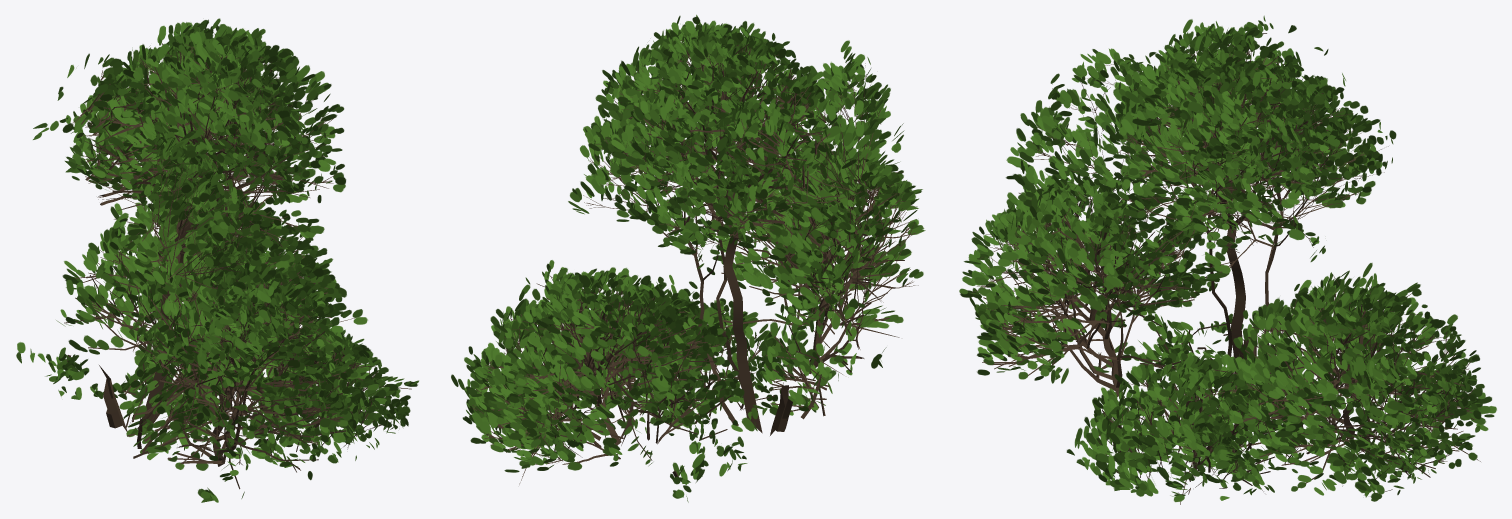
3 views of the same model, side by side, from view 1: azimuth 30°, elevation 25°; view 2: azimuth 150°, elevation 25°; view 3: azimuth 270°, elevation 25° (orthographic). The views are drawn at different scales.
Visible parts, largest first — view 1: oak 01.001_trunk_Mat.001_0.247; view 2: oak 01.001_trunk_Mat.001_0.247; view 3: oak 01.001_trunk_Mat.001_0.247.
Boxes of the visible parts, <box> form: oak 01.001_trunk_Mat.001_0.247: <box>16,18,418,502</box>; oak 01.001_trunk_Mat.001_0.247: <box>451,14,925,502</box>; oak 01.001_trunk_Mat.001_0.247: <box>959,15,1496,504</box>.
Size of the model in its own units: 3.8 by 4.96 by 5.94.
2 materials, 1 textured.
